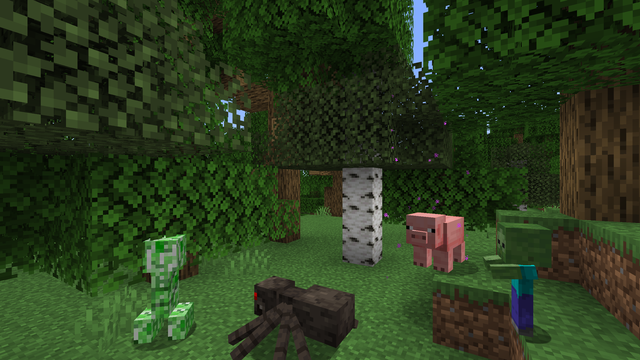araignees: (232, 264, 350, 356)
cochons: (410, 212, 465, 273)
creepers: (137, 229, 192, 347)
zombies: (503, 235, 543, 341)
